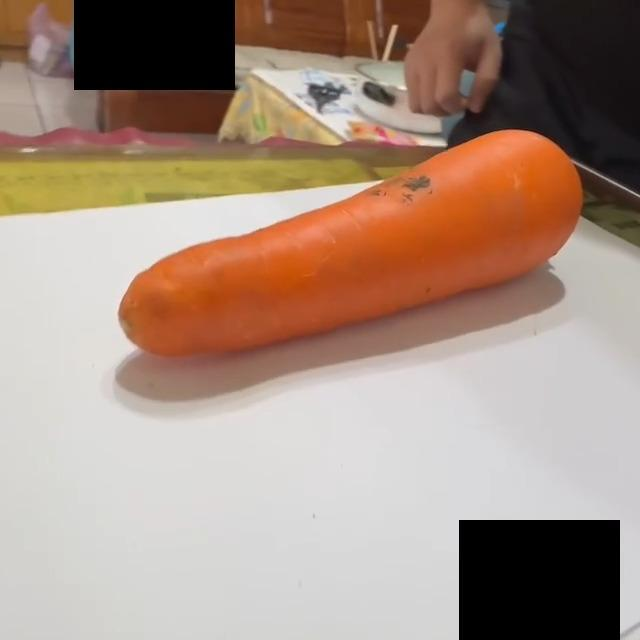carrot: (116, 131, 583, 360)
